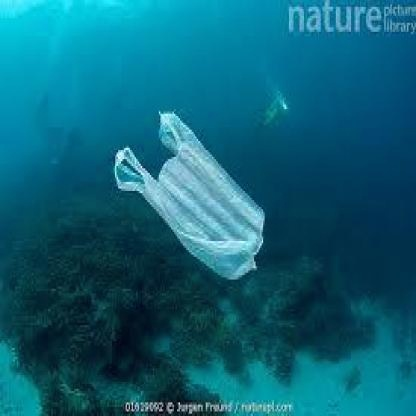pbag: (112, 109, 266, 282)
